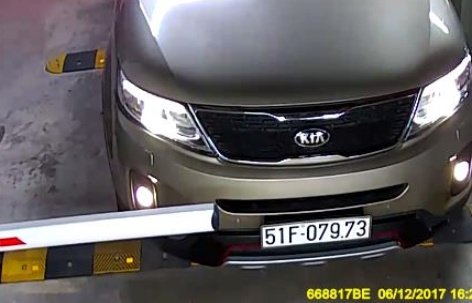plate: (255, 208, 374, 259)
